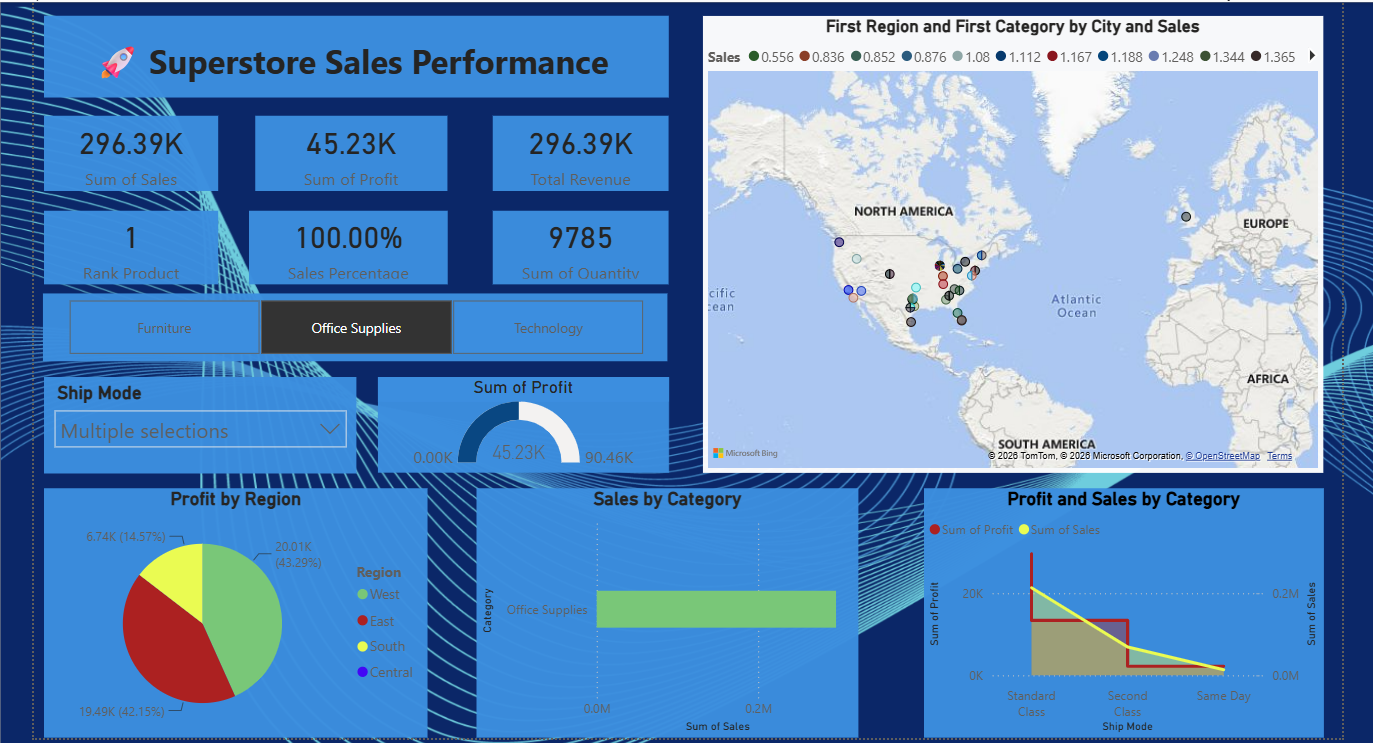

What the dashboard file says about the page in this screenshot:
{"tool":"powerbi","page":{"name":"Page 1","canvas":[1280,720],"ordinal":0},"visuals":[{"type":"barChart","title":"Sales by Category","fields":{"Category":["Sample - Superstore.Category"],"Y":["Sum(Sample - Superstore.Sales)"]},"box":[433.5,476.2,373.8,244.1],"z":0},{"type":"pieChart","title":"Profit by Region","fields":{"Y":["Sum(Sample - Superstore.Profit)"],"Category":["Sample - Superstore.Region"]},"box":[10.2,476.2,375.5,244.1],"z":1000},{"type":"slicer","fields":{"Values":["Sample - Superstore.Category"]},"box":[8.6,284.9,611.4,66],"z":2000},{"type":"areaChart","title":" Profit and Sales by Category","fields":{"Category":["Orders.Ship Mode"],"Y2":["Sum(Sample - Superstore.Sales)"],"Y":["Sum(Sample - Superstore.Profit)"]},"box":[870.4,476.2,390.8,244.1],"z":3000},{"type":"card","fields":{"Values":["Sum(Sample - Superstore.Sales)"]},"box":[10.2,110.9,170.7,73.4],"z":4000},{"type":"card","fields":{"Values":["Sum(Sample - Superstore.Profit)"]},"box":[216.7,110.9,187.7,73.4],"z":5000},{"type":"textbox","box":[10.2,13.7,611,80.2],"z":6000},{"type":"card","fields":{"Values":["Orders.Total Revenue"]},"box":[448.9,110.9,172.4,73.4],"z":7000},{"type":"card","fields":{"Values":["Orders.Sales %"]},"box":[209.9,204.8,194.6,71.7],"z":8000},{"type":"card","fields":{"Values":["Orders.Rank Product"]},"box":[10.2,204.8,170.7,71.7],"z":9000},{"type":"card","fields":{"Values":["Sum(Orders.Quantity)"]},"box":[448.9,204.8,172.4,71.7],"z":10000},{"type":"map","fields":{"Category":["Orders.City"],"Series":["Orders.Sales"]},"box":[653.9,13.3,606.8,447.6],"z":11000},{"type":"slicer","fields":{"Values":["Sample - Superstore.Ship Mode"]},"box":[9.8,366.8,305.7,94.2],"z":12000},{"type":"gauge","fields":{"Y":["Sum(Orders.Profit)"]},"box":[336.2,366.9,285,93.9],"z":13000}]}

Visuals, with their boxes in screenshot pixels (x1, y1, x2, y2):
"Sales by Category" barChart: x1=477, y1=485, x2=858, y2=734
"Profit by Region" pieChart: x1=46, y1=485, x2=429, y2=734
slicer - Sample - Superstore.Category: x1=45, y1=290, x2=667, y2=357
" Profit and Sales by Category" areaChart: x1=922, y1=485, x2=1320, y2=734
card - Sum(Sample - Superstore.Sales): x1=46, y1=113, x2=220, y2=188
card - Sum(Sample - Superstore.Profit): x1=257, y1=113, x2=448, y2=188
textbox: x1=46, y1=14, x2=669, y2=96
card - Orders.Total Revenue: x1=493, y1=113, x2=669, y2=188
card - Orders.Sales %: x1=250, y1=209, x2=448, y2=282
card - Orders.Rank Product: x1=46, y1=209, x2=220, y2=282
card - Sum(Orders.Quantity): x1=493, y1=209, x2=669, y2=282
map - Orders.City x Orders.Sales: x1=702, y1=14, x2=1320, y2=469
slicer - Sample - Superstore.Ship Mode: x1=46, y1=374, x2=357, y2=470
gauge - Sum(Orders.Profit): x1=378, y1=374, x2=669, y2=469
